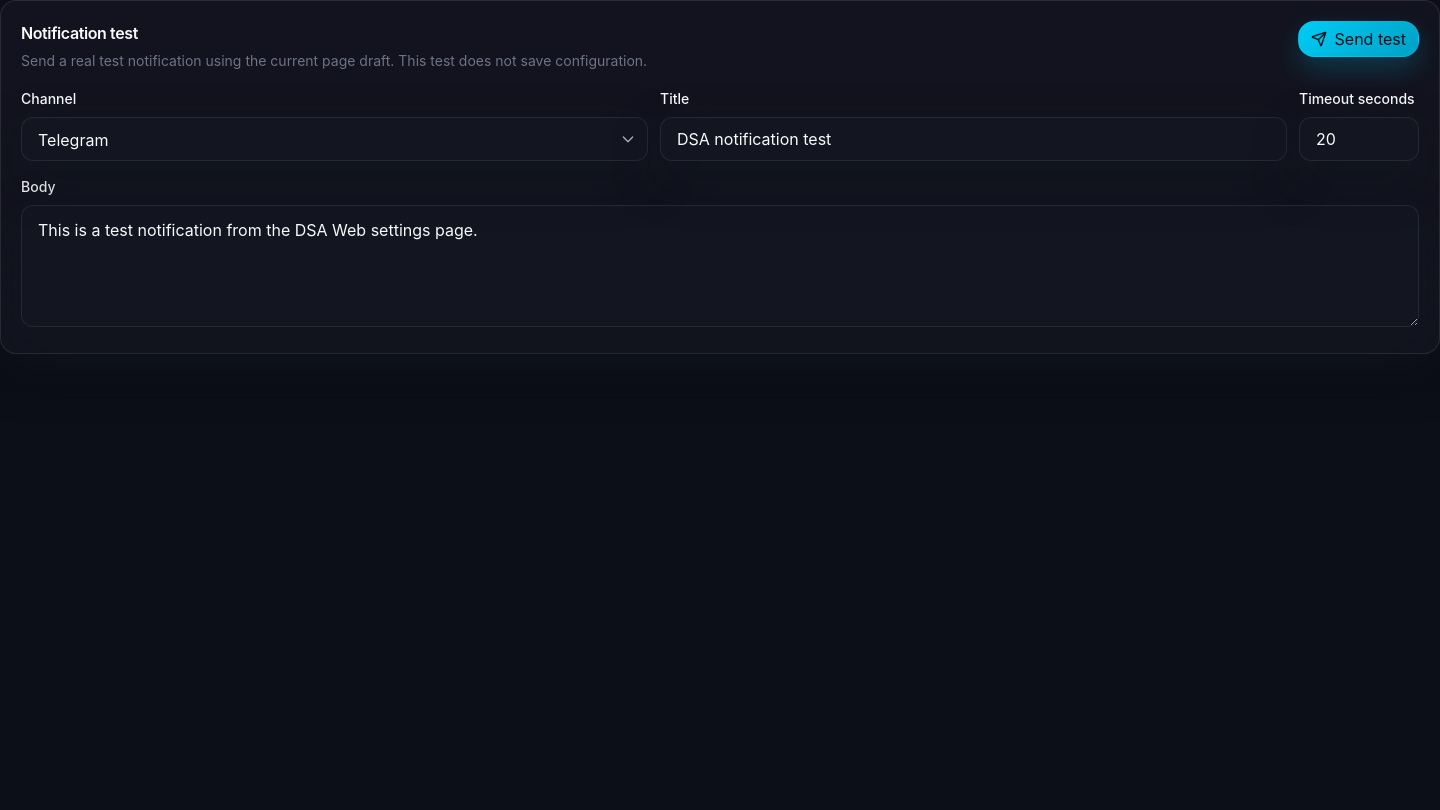
it: NotificationTestPanel › submits draft notification items and renders attempt details
Step 1. Select "Custom Webhook" in the dropdown labelled "Channel" → {"x": 334, "y": 139}, box [21,117,648,161]
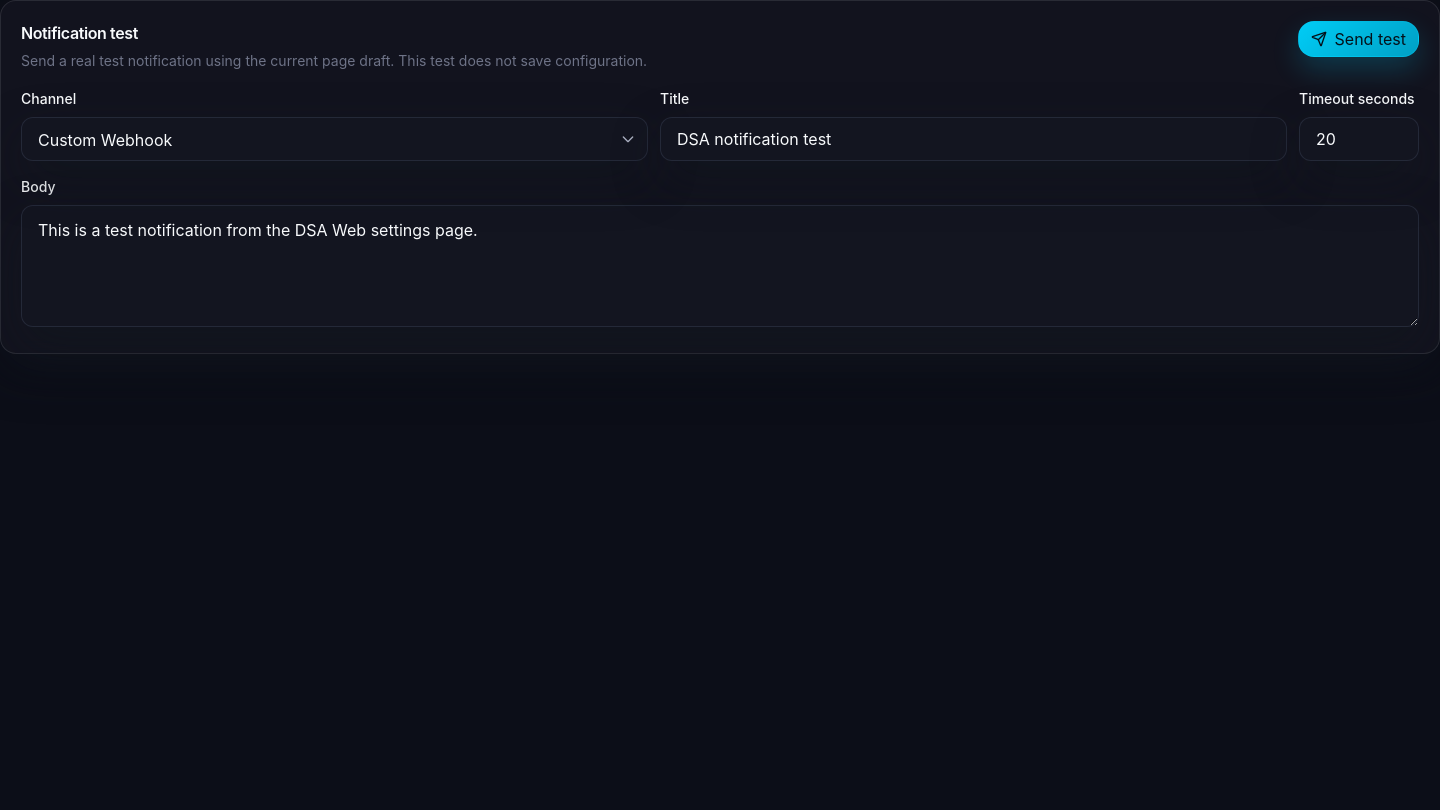
Step 2. Click the button "Send test" → {"x": 1358, "y": 39}, box [1298,21,1419,57]
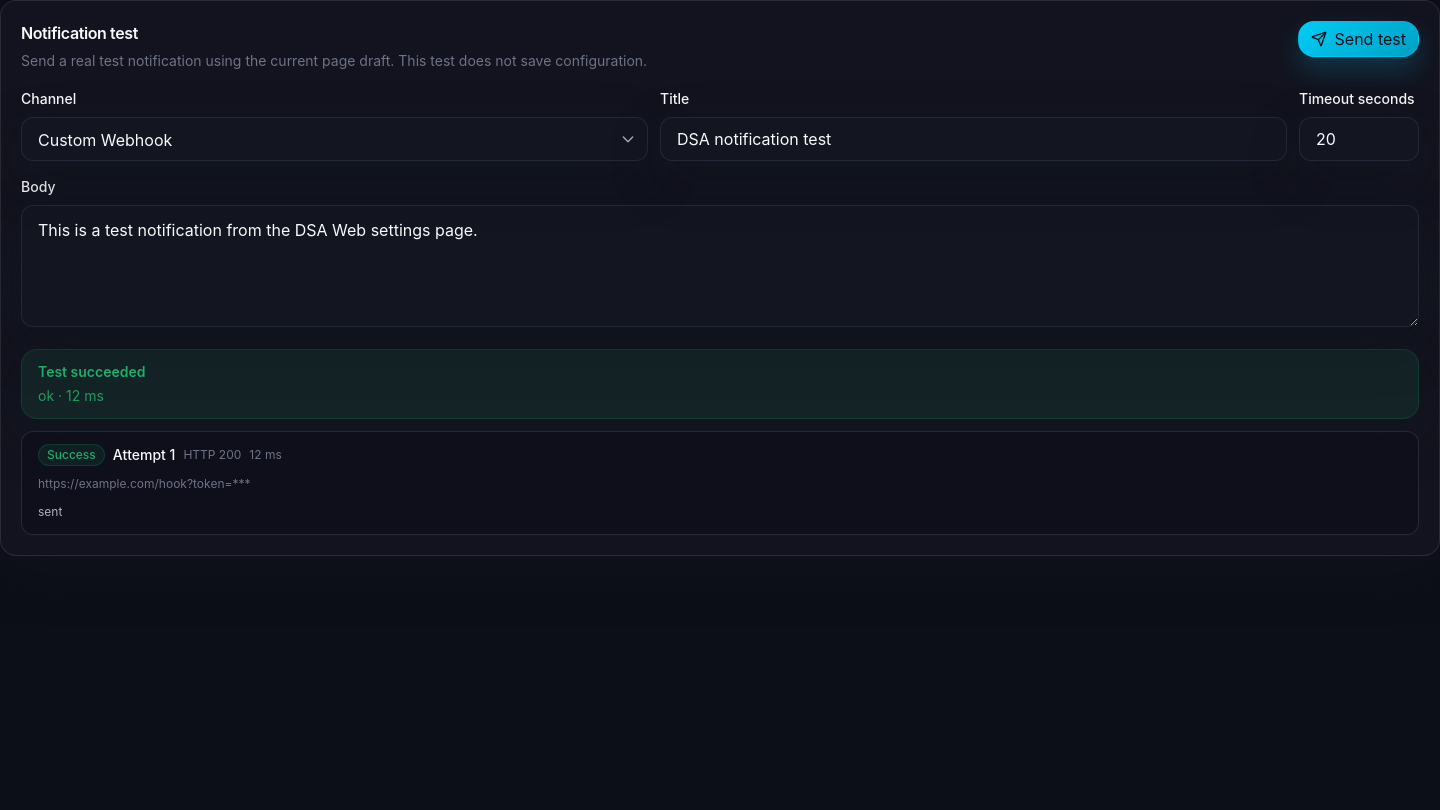
expect the text "Test succeeded" is shown: met, box [38,362,146,382]
expect the text "HTTP 200" is shown: met, box [183,447,241,463]
expect the text "https://example.com/hook?token=***" is shown: met, box [38,474,282,494]
